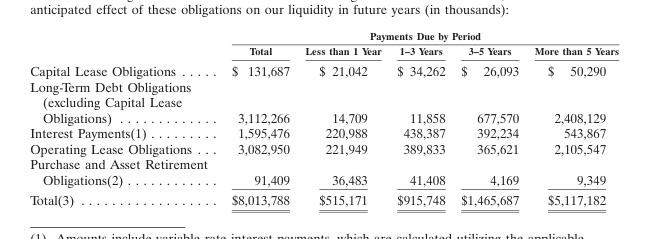table: (29, 29, 618, 207)
table column: (29, 29, 218, 207), (296, 29, 388, 207), (526, 29, 618, 207), (218, 29, 296, 207), (452, 29, 526, 207), (388, 29, 452, 207)
table column header: (29, 29, 618, 59)
table row: (29, 78, 618, 124), (29, 155, 618, 189), (29, 59, 618, 78), (29, 189, 618, 207), (29, 43, 618, 59), (29, 124, 618, 140), (29, 140, 618, 155), (29, 29, 618, 43)
table spanning cell: (218, 29, 618, 43)
